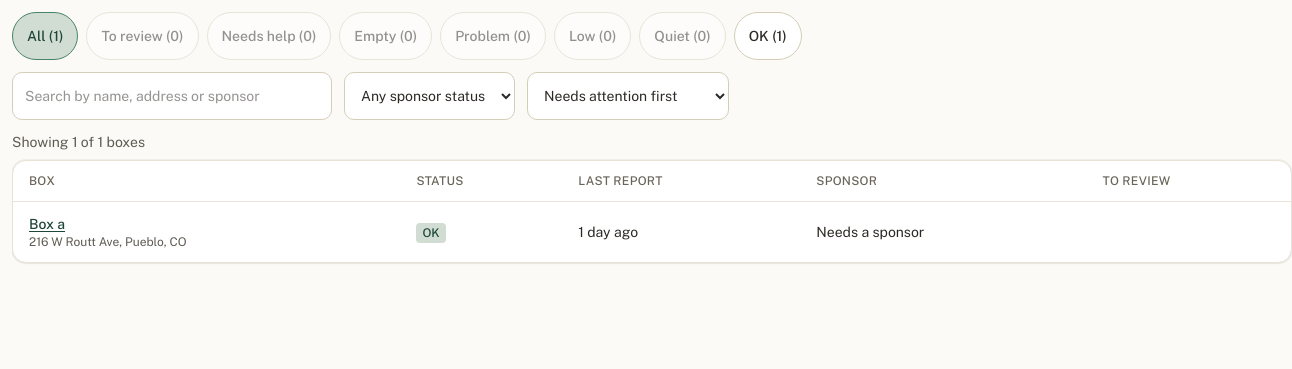
Test: AllBoxesTable — empty states › boxes exist but none match the filters: one row with the empty-filter message
In the field named "Search boxes": (172, 96) [12,72,332,120], type "no such box"
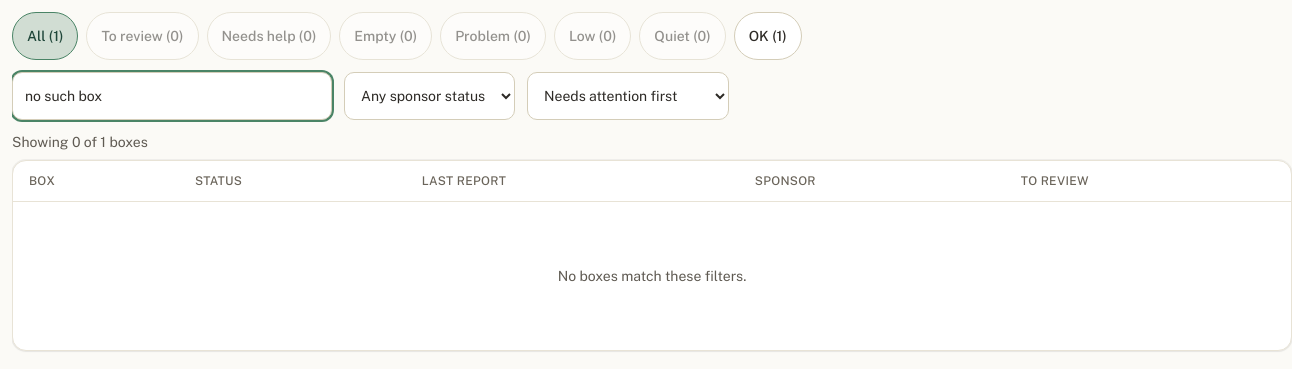
Check: the text "No boxes match these filters." is shown, box [13,202,1291,350]
Check: the text "Showing 0 of 1 boxes" is shown, box [12,134,148,150]
